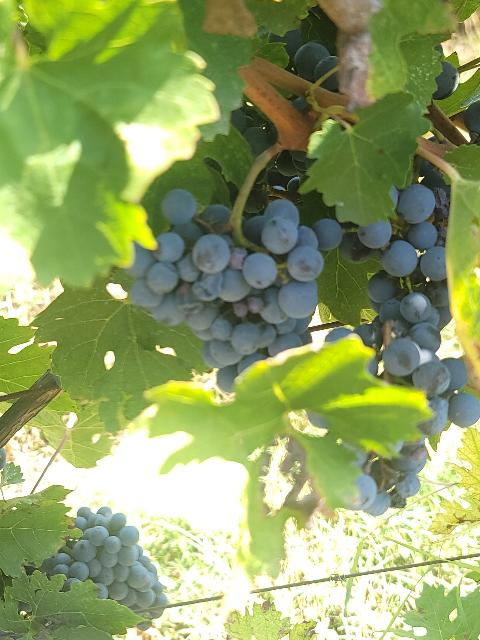grapes: (129, 189, 342, 391), (349, 344, 480, 516), (338, 159, 452, 351), (40, 506, 166, 610)
